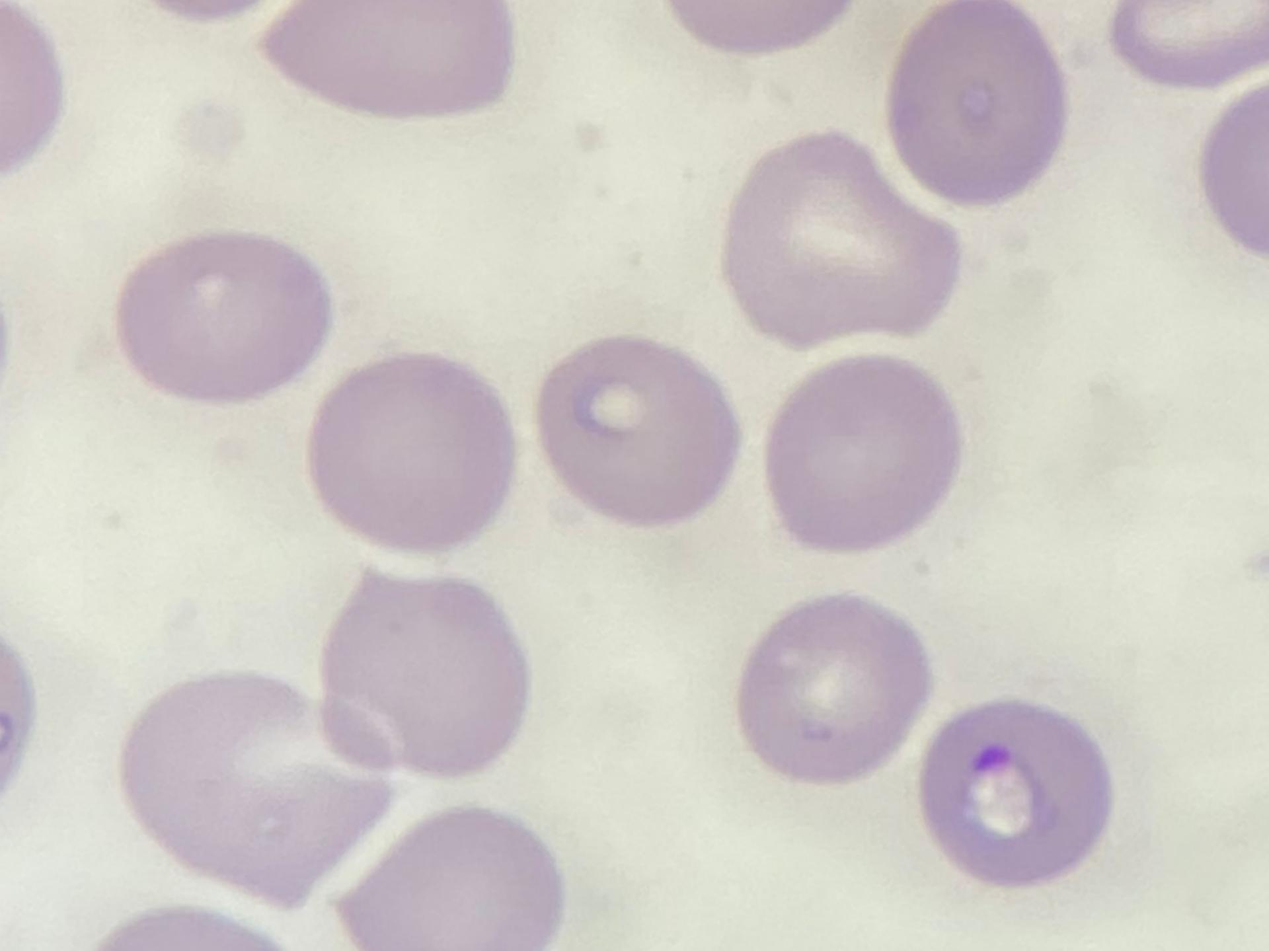Infected: (919, 699, 1112, 888)
Uninfected: (119, 670, 391, 912), (727, 129, 958, 345), (317, 565, 523, 775), (304, 353, 511, 547), (771, 358, 961, 553), (538, 336, 734, 525), (112, 230, 326, 398), (886, 5, 1065, 202), (745, 596, 928, 788), (337, 807, 563, 951), (264, 0, 513, 115)
